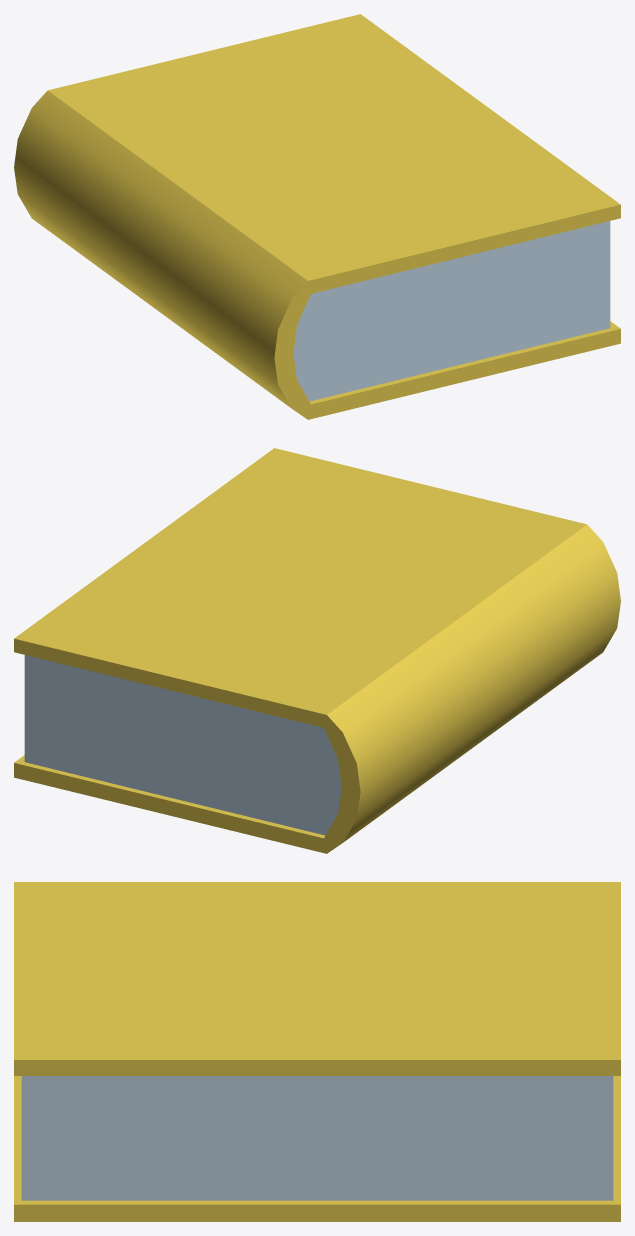
The model's file is book.glb.
3 renders of one model, top to bottom at view 1: azimuth 30°, elevation 25°; view 2: azimuth 150°, elevation 25°; view 3: azimuth 270°, elevation 25°, orthographic. The views are drawn at different scales.
Visible parts, largest first — view 1: Cube, Cube 2; view 2: Cube, Cube 2; view 3: Cube, Cube 2.
Boxes of the visible parts, bbox=[...] form: Cube: bbox=[14, 14, 620, 419]; Cube 2: bbox=[293, 221, 610, 401]; Cube: bbox=[14, 448, 620, 853]; Cube 2: bbox=[24, 655, 341, 835]; Cube: bbox=[14, 882, 620, 1221]; Cube 2: bbox=[21, 1076, 613, 1200].
Size of the model in its own units: 0.7504 by 0.2875 by 0.9762.
